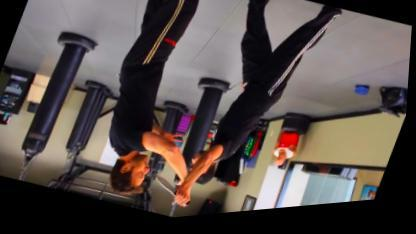knife: (147, 172, 202, 215)
